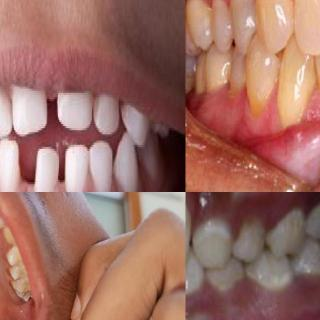calculus: (250, 264, 292, 304), (236, 210, 264, 241), (212, 271, 238, 303)
